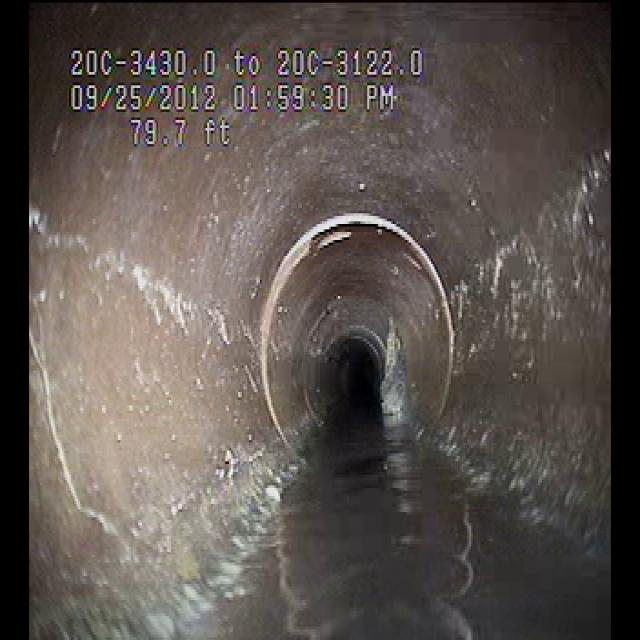Crack: (31, 346, 126, 563)
